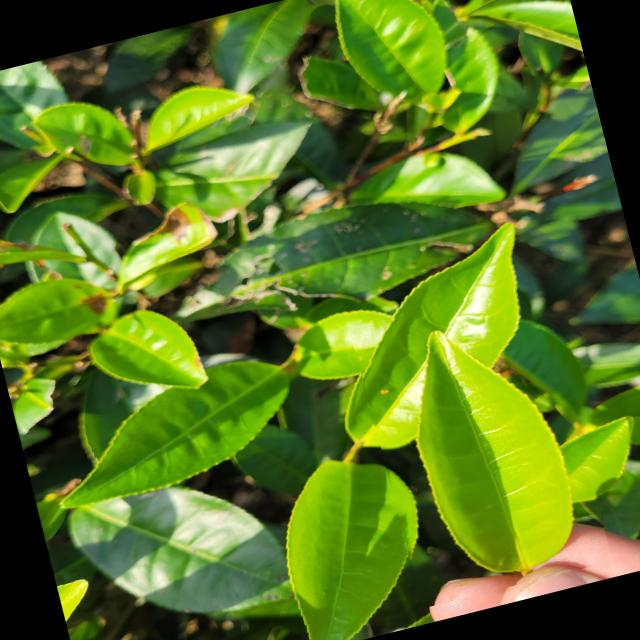Category B(2-4 days): (349, 280, 612, 610)
